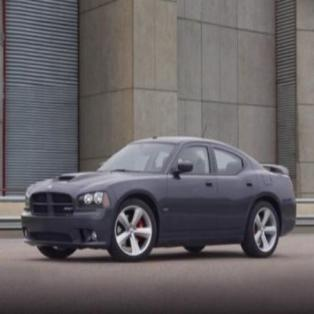Auto: (20, 124, 298, 263)
